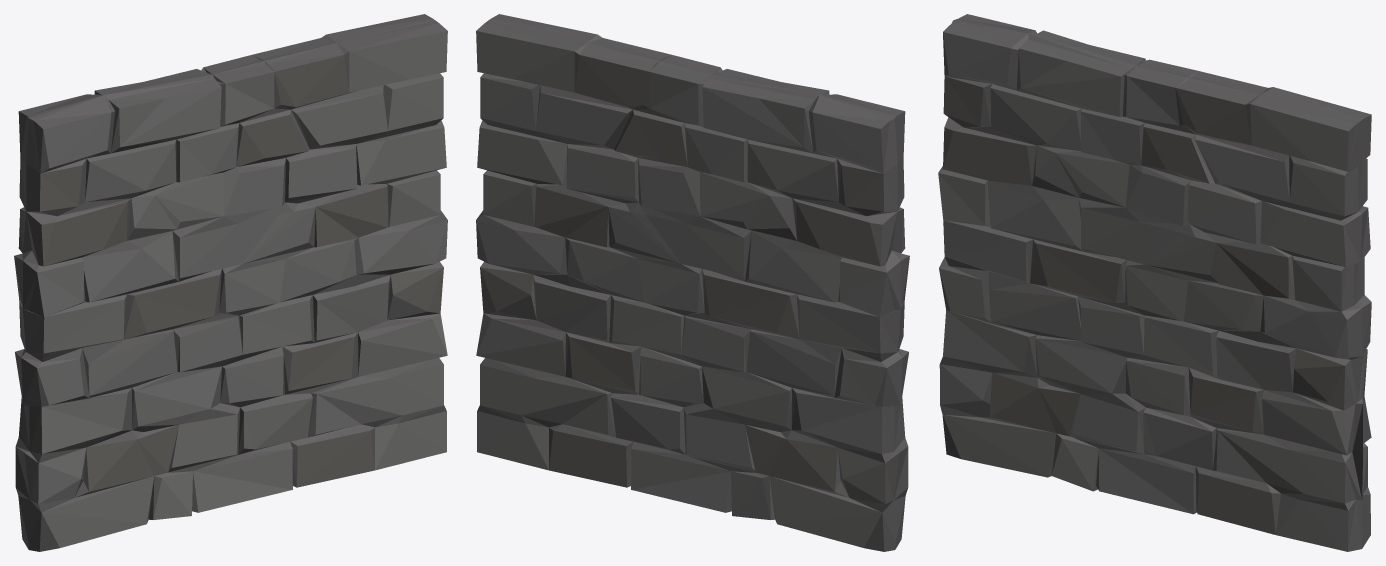
File: SM_Env_Wall_01_DoubleSided.FBX
3 views of the same model, side by side, from view 1: azimuth 30°, elevation 25°; view 2: azimuth 150°, elevation 25°; view 3: azimuth 330°, elevation 25° (orthographic).
Parts seen in each view (by area): view 1: SM_Env_Wall_01_DoubleSided; view 2: SM_Env_Wall_01_DoubleSided; view 3: SM_Env_Wall_01_DoubleSided.
Part boxes in pixels (<box>): SM_Env_Wall_01_DoubleSided: <box>14,14,447,551</box>; SM_Env_Wall_01_DoubleSided: <box>476,14,909,551</box>; SM_Env_Wall_01_DoubleSided: <box>938,14,1371,551</box>.
Size of what is drawn, in the model's own units: 517 by 54.49 by 517.
